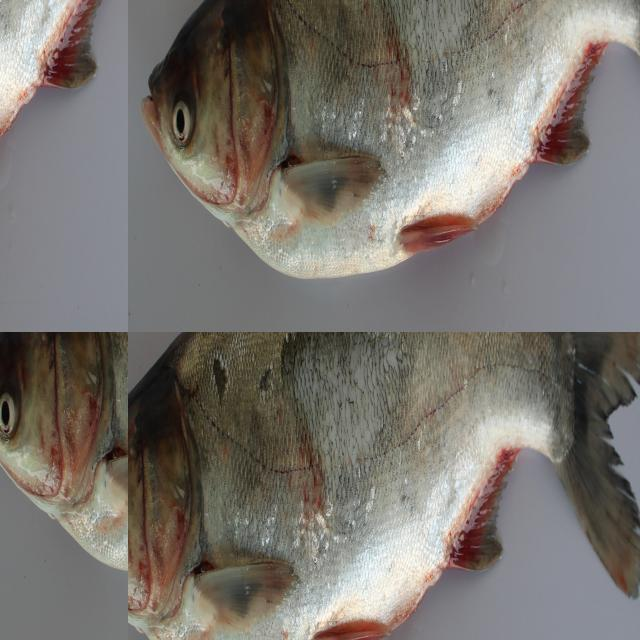fish: (128, 332, 640, 640), (0, 0, 128, 332)
